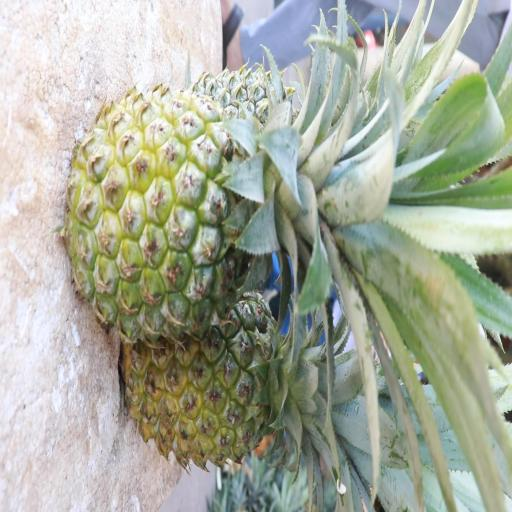------------------------------: (72, 92, 340, 333)
Pineapple - v8 v1: (124, 294, 325, 468)
